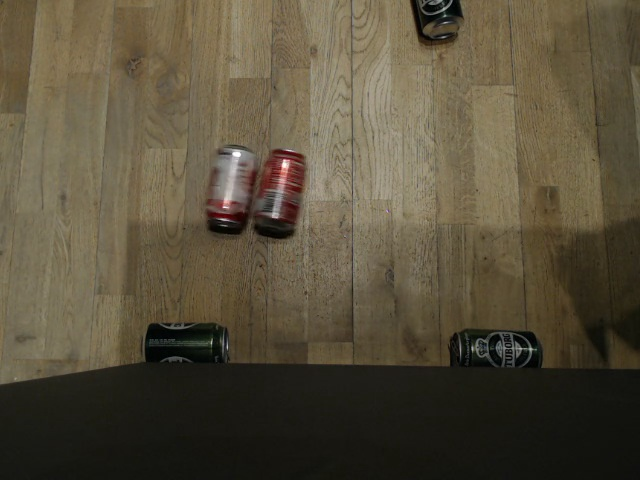beer: (448, 325, 542, 370), (136, 319, 233, 361), (408, 0, 469, 39)
cola: (199, 144, 257, 233), (251, 145, 305, 231)
